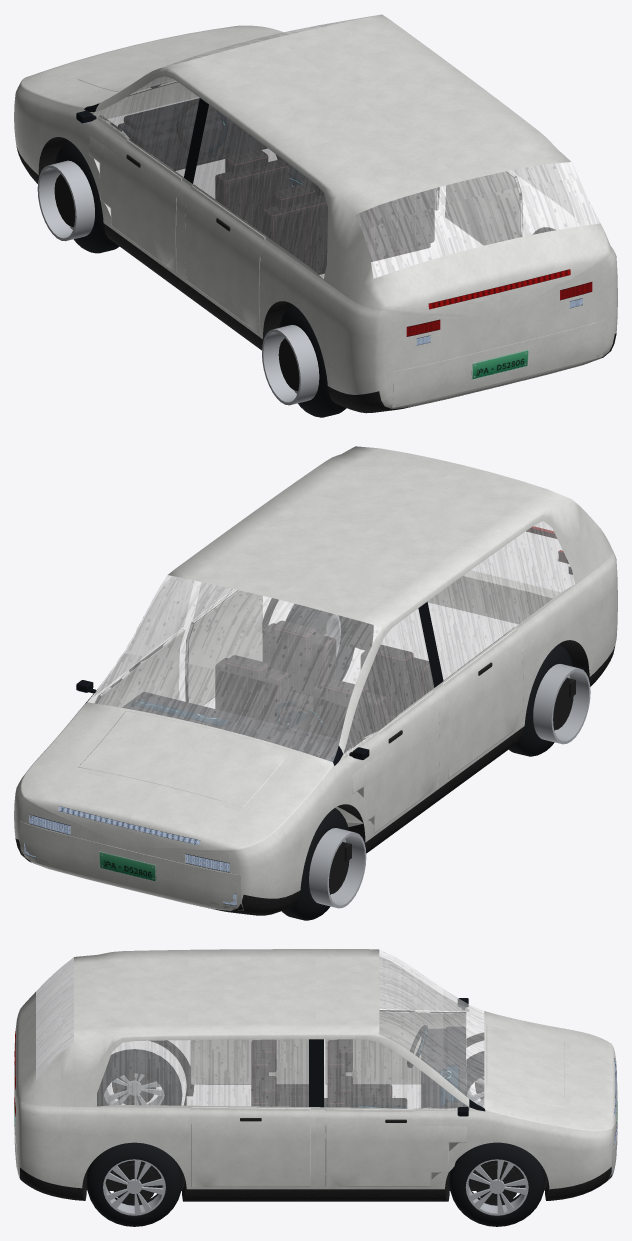
File: suv_ev.glb
3 views of the same model, one above another, from view 1: azimuth 30°, elevation 25°; view 2: azimuth 150°, elevation 25°; view 3: azimuth 270°, elevation 25° (orthographic). The views are drawn at different scales.
Visible parts, largest first — view 1: Body, Glass, Interior, Bumper_R, Door_FL, Door_RL, Wheel_RL, Wheel_FL, Door_RR, Hood, Lamp_R, Trim (+2 smaller); view 2: Body, Glass, Interior, Hood, Bumper_F, Door_FL, Door_RL, Door_RR, Wheel_FL, Wheel_RL, Bumper_R, Door_FR (+4 smaller); view 3: Body, Glass, Interior, Door_FR, Door_RR, Wheel_RR, Wheel_FR, Hood, Door_FL, Door_RL, Wheel_RL, Trim (+1 smaller).
Boxes of the visible parts, x1=… form: Body: x1=14, y1=14, x2=617, y2=413; Glass: x1=89, y1=15, x2=600, y2=278; Interior: x1=118, y1=98, x2=434, y2=274; Bumper_R: x1=392, y1=320, x2=604, y2=407; Door_FL: x1=89, y1=116, x2=182, y2=273; Door_RL: x1=185, y1=185, x2=265, y2=334; Wheel_RL: x1=262, y1=305, x2=346, y2=417; Wheel_FL: x1=37, y1=141, x2=119, y2=253; Door_RR: x1=445, y1=171, x2=523, y2=245; Hood: x1=78, y1=39, x2=251, y2=94; Lamp_R: x1=406, y1=269, x2=592, y2=345; Trim: x1=38, y1=82, x2=555, y2=342; Body: x1=14, y1=446, x2=617, y2=915; Glass: x1=87, y1=521, x2=574, y2=761; Interior: x1=122, y1=620, x2=434, y2=761; Hood: x1=78, y1=711, x2=290, y2=807; Bumper_F: x1=20, y1=821, x2=243, y2=910; Door_FL: x1=335, y1=690, x2=439, y2=832; Door_RL: x1=443, y1=628, x2=523, y2=778; Door_RR: x1=185, y1=589, x2=262, y2=705; Wheel_FL: x1=282, y1=808, x2=366, y2=920; Wheel_RL: x1=509, y1=644, x2=590, y2=756; Bumper_R: x1=428, y1=570, x2=560, y2=624; Door_FR: x1=95, y1=629, x2=184, y2=707; Body: x1=14, y1=949, x2=617, y2=1201; Glass: x1=36, y1=950, x2=484, y2=1110; Interior: x1=251, y1=1025, x2=465, y2=1108; Door_FR: x1=325, y1=1107, x2=466, y2=1186; Door_RR: x1=191, y1=1107, x2=310, y2=1186; Wheel_RR: x1=86, y1=1142, x2=182, y2=1226; Wheel_FR: x1=449, y1=1142, x2=544, y2=1226; Hood: x1=486, y1=1025, x2=564, y2=1107; Door_FL: x1=326, y1=1010, x2=466, y2=1087; Door_RL: x1=191, y1=1039, x2=308, y2=1084; Wheel_RL: x1=97, y1=1049, x2=182, y2=1106; Trim: x1=82, y1=998, x2=614, y2=1199.
Bounding box in the file's own units: 2.12 × 1.66 × 4.74.
Materials: 12 (9 with a texture image).
